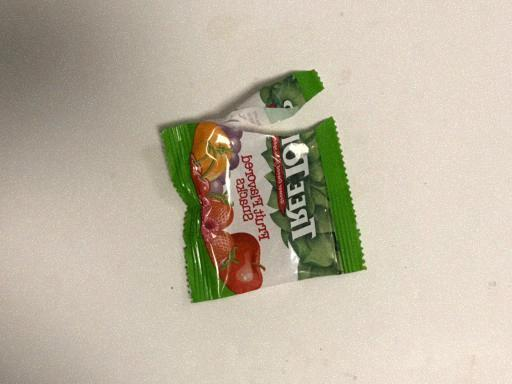trash: (158, 68, 369, 306)
